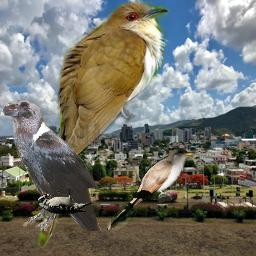Crow: (0, 98, 101, 231)
Cuckoo: (36, 1, 170, 249), (107, 148, 196, 230)
Woodpecker: (38, 189, 94, 214)
